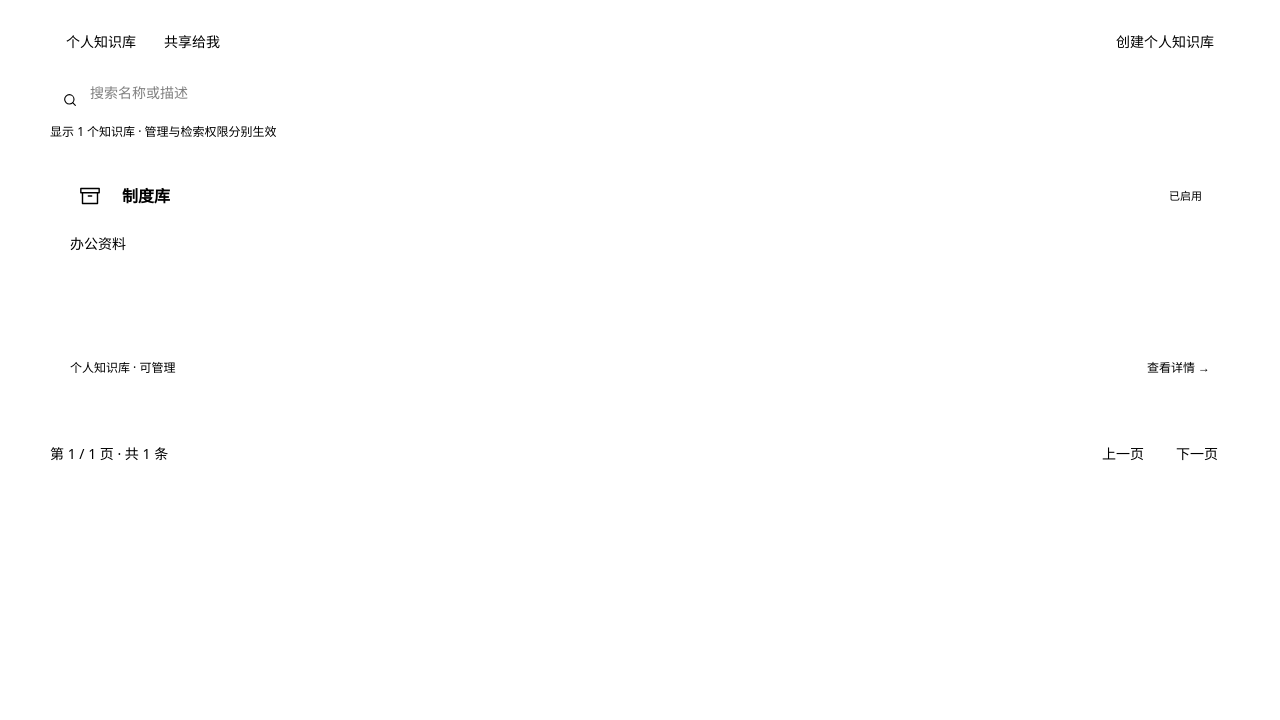
requires a concrete confirmation for document deletion and presents service errors
Click the button "制度库 已启用 办公资料 个人知识库 · 可管理 查看详情 →": (640, 276) [50,156,1230,396]
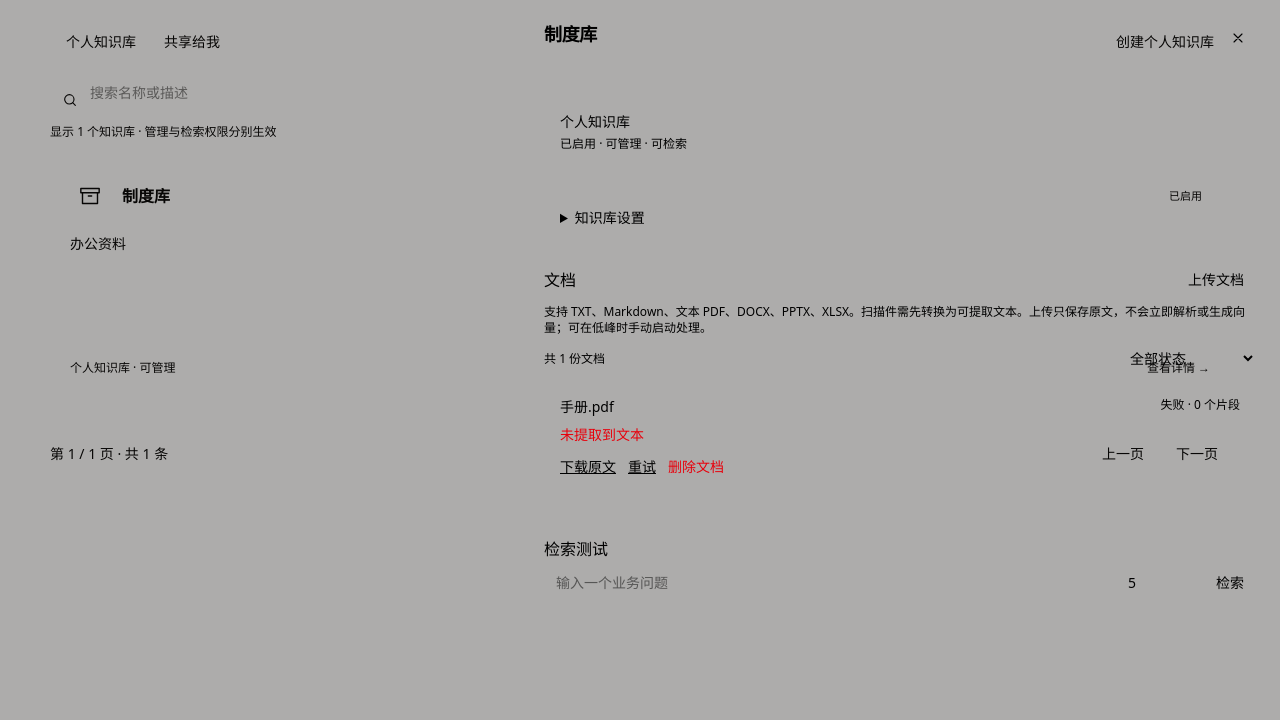
Click the button "删除文档": (696, 467) [668,457,724,477]
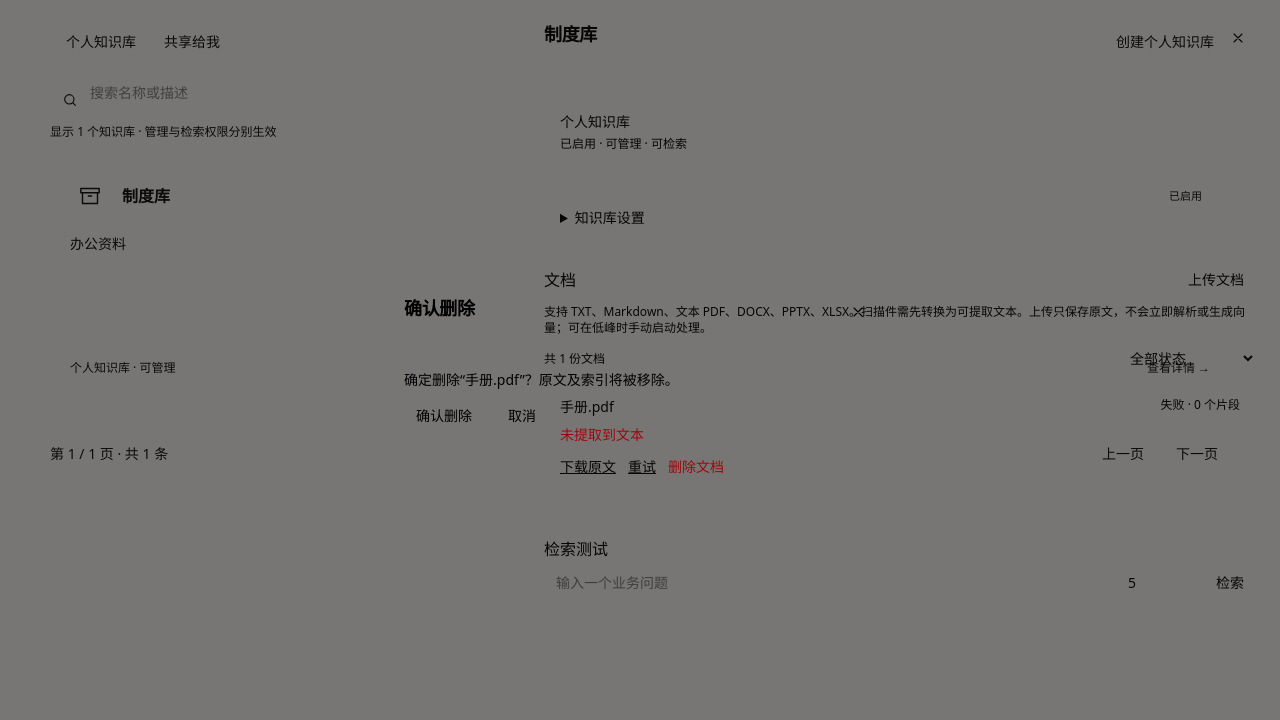
Click the button "确认删除": (444, 416) [404,406,484,426]
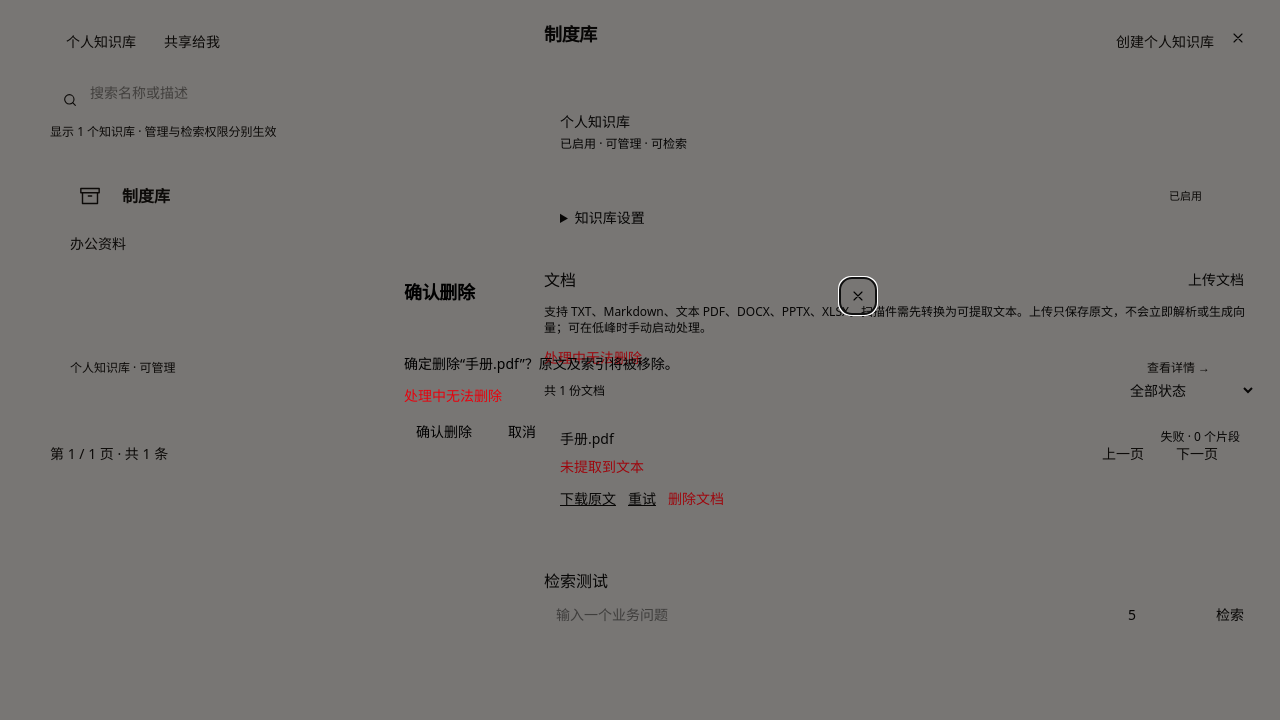
Now the text "处理中无法删除" is shown 2 times, box [544,348,642,367]; [404,386,502,405]
